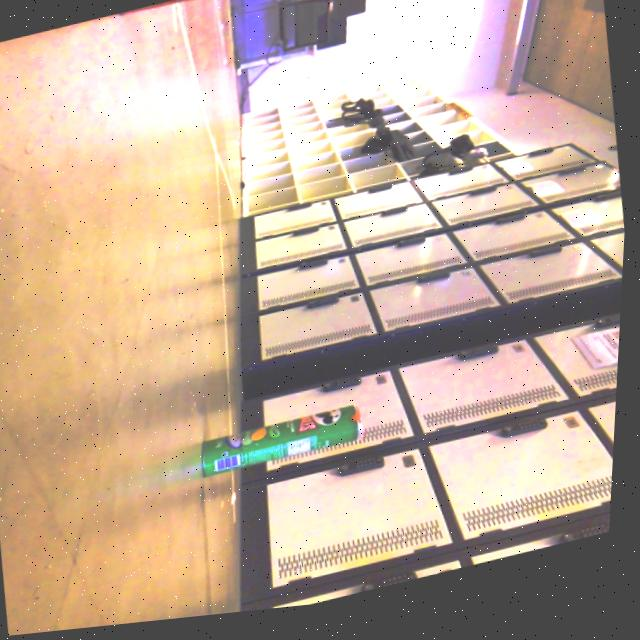greenpringles: (184, 398, 390, 495)
redpringles: (94, 0, 424, 45)
